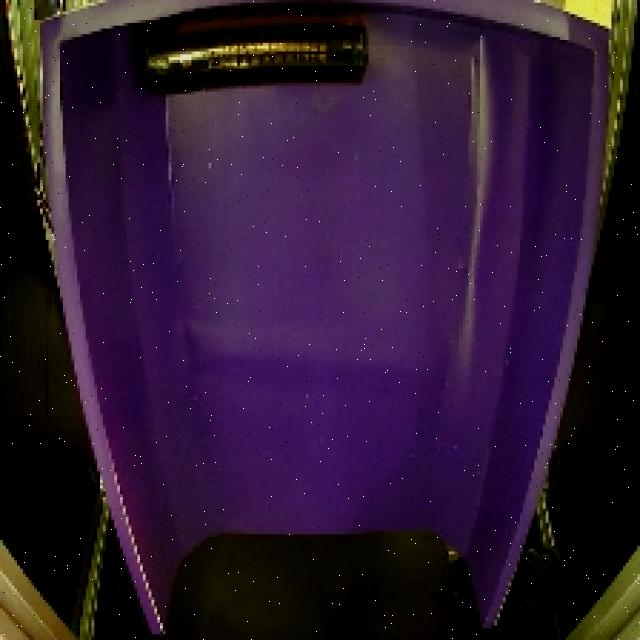battery: (134, 4, 388, 112)
